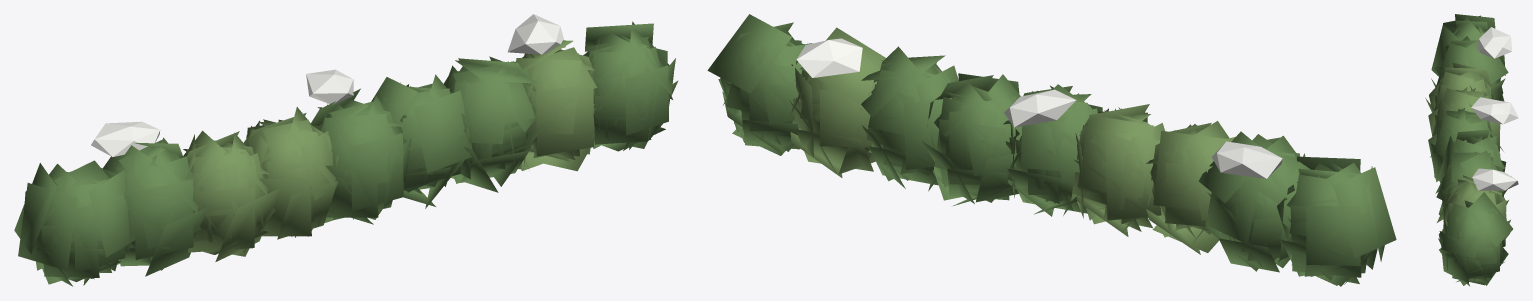
File: HedgeSegment.glb
3 views of the same model, side by side, from view 1: azimuth 30°, elevation 25°; view 2: azimuth 150°, elevation 25°; view 3: azimuth 270°, elevation 25° (orthographic). The views are drawn at different scales.
Visible parts, largest first — view 1: Hedge mass, Hedge mass.008, Hedge mass.004, Hedge mass.001, Hedge mass.006, Hedge mass.002, Hedge mass.003, Hedge mass.007, Hedge mass.005, Hedge blossom, Hedge blossom.002, Hedge blossom.001; view 2: Hedge mass, Hedge mass.005, Hedge mass.008, Hedge mass.003, Hedge mass.006, Hedge mass.001, Hedge mass.007, Hedge mass.002, Hedge mass.004, Hedge blossom.002, Hedge blossom, Hedge blossom.001; view 3: Hedge mass.008, Hedge mass.001, Hedge mass.004, Hedge mass.002, Hedge mass.006, Hedge mass, Hedge mass.005, Hedge mass.003, Hedge mass.007, Hedge blossom.001, Hedge blossom, Hedge blossom.002.
Part boxes in pixels (x1,y1,x2,y2): Hedge mass: (14,160,135,286); Hedge mass.008: (583,21,678,151); Hedge mass.004: (310,88,411,224); Hedge mass.001: (101,137,209,276); Hedge mass.006: (443,56,543,192); Hedge mass.002: (181,130,281,261); Hedge mass.003: (243,107,338,239); Hedge mass.007: (514,40,599,171); Hedge mass.005: (371,74,472,208); Hedge blossom: (91,121,160,156); Hedge blossom.002: (507,14,565,54); Hedge blossom.001: (306,69,353,104); Hedge mass: (1277,156,1396,286); Hedge mass.005: (922,73,1022,206); Hedge mass.008: (707,14,812,155); Hedge mass.003: (1071,104,1164,236); Hedge mass.006: (861,46,958,191); Hedge mass.001: (1198,131,1310,272); Hedge mass.007: (789,27,885,177); Hedge mass.002: (1146,121,1235,254); Hedge mass.004: (1003,84,1102,216); Hedge blossom.002: (796,38,862,77); Hedge blossom: (1211,141,1282,178); Hedge blossom.001: (1004,89,1076,127); Hedge mass.008: (1438,192,1512,286); Hedge mass.001: (1431,36,1508,101); Hedge mass.004: (1428,103,1503,181); Hedge mass.002: (1425,63,1492,112); Hedge mass.006: (1435,150,1508,221); Hedge mass: (1431,14,1505,76); Hedge mass.005: (1438,129,1507,194); Hedge mass.003: (1428,85,1500,152); Hedge mass.007: (1437,175,1510,247); Hedge blossom.001: (1471,97,1518,124); Hedge blossom: (1477,27,1512,58); Hedge blossom.002: (1472,168,1518,190).
Size of the model in its own units: 7.71 by 1.53 by 1.4.
